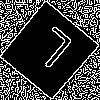L: (24, 25, 75, 78)
